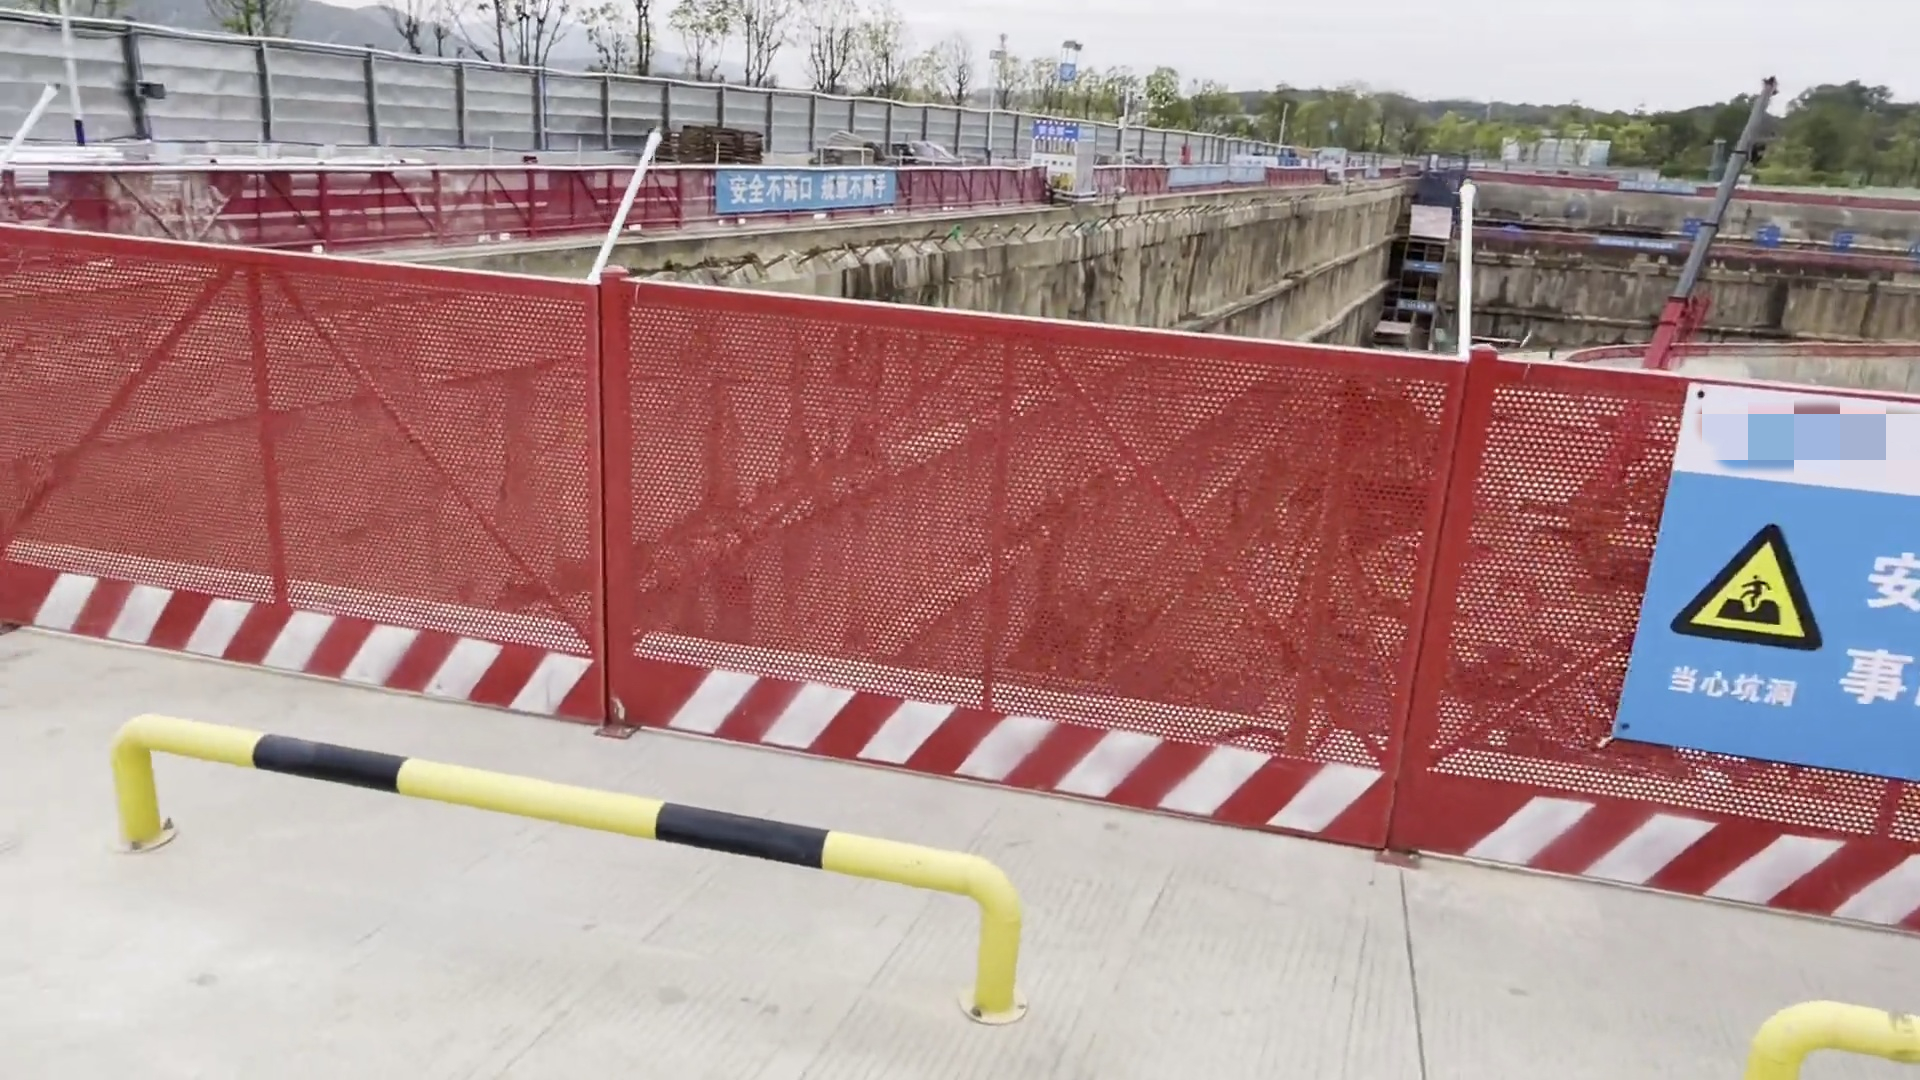fence: (604, 269, 1424, 855), (1425, 336, 1920, 942), (4, 229, 607, 713), (5, 160, 760, 237)
hook: (1751, 142, 1764, 166)
slogan: (1615, 382, 1916, 778), (717, 171, 893, 212), (1164, 164, 1265, 189), (1617, 179, 1697, 196), (1594, 235, 1673, 252), (1027, 120, 1077, 138)
